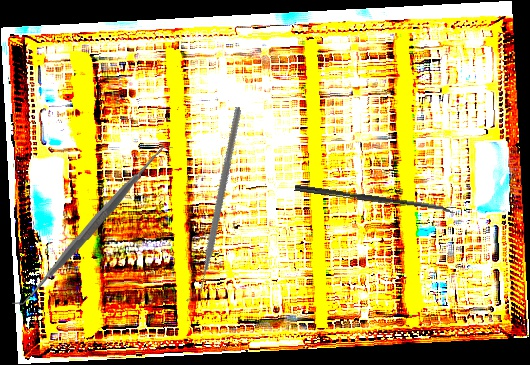Chopper: (130, 106, 296, 302)
Spatula Surgical: (12, 141, 173, 310)
Surgical Spoon: (294, 184, 456, 215)
